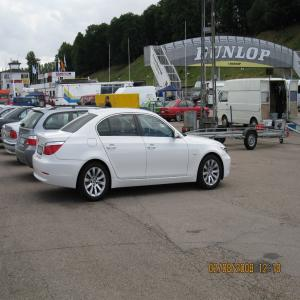Vehicle-registration-plate: (38, 146, 45, 156), (20, 138, 26, 145)
